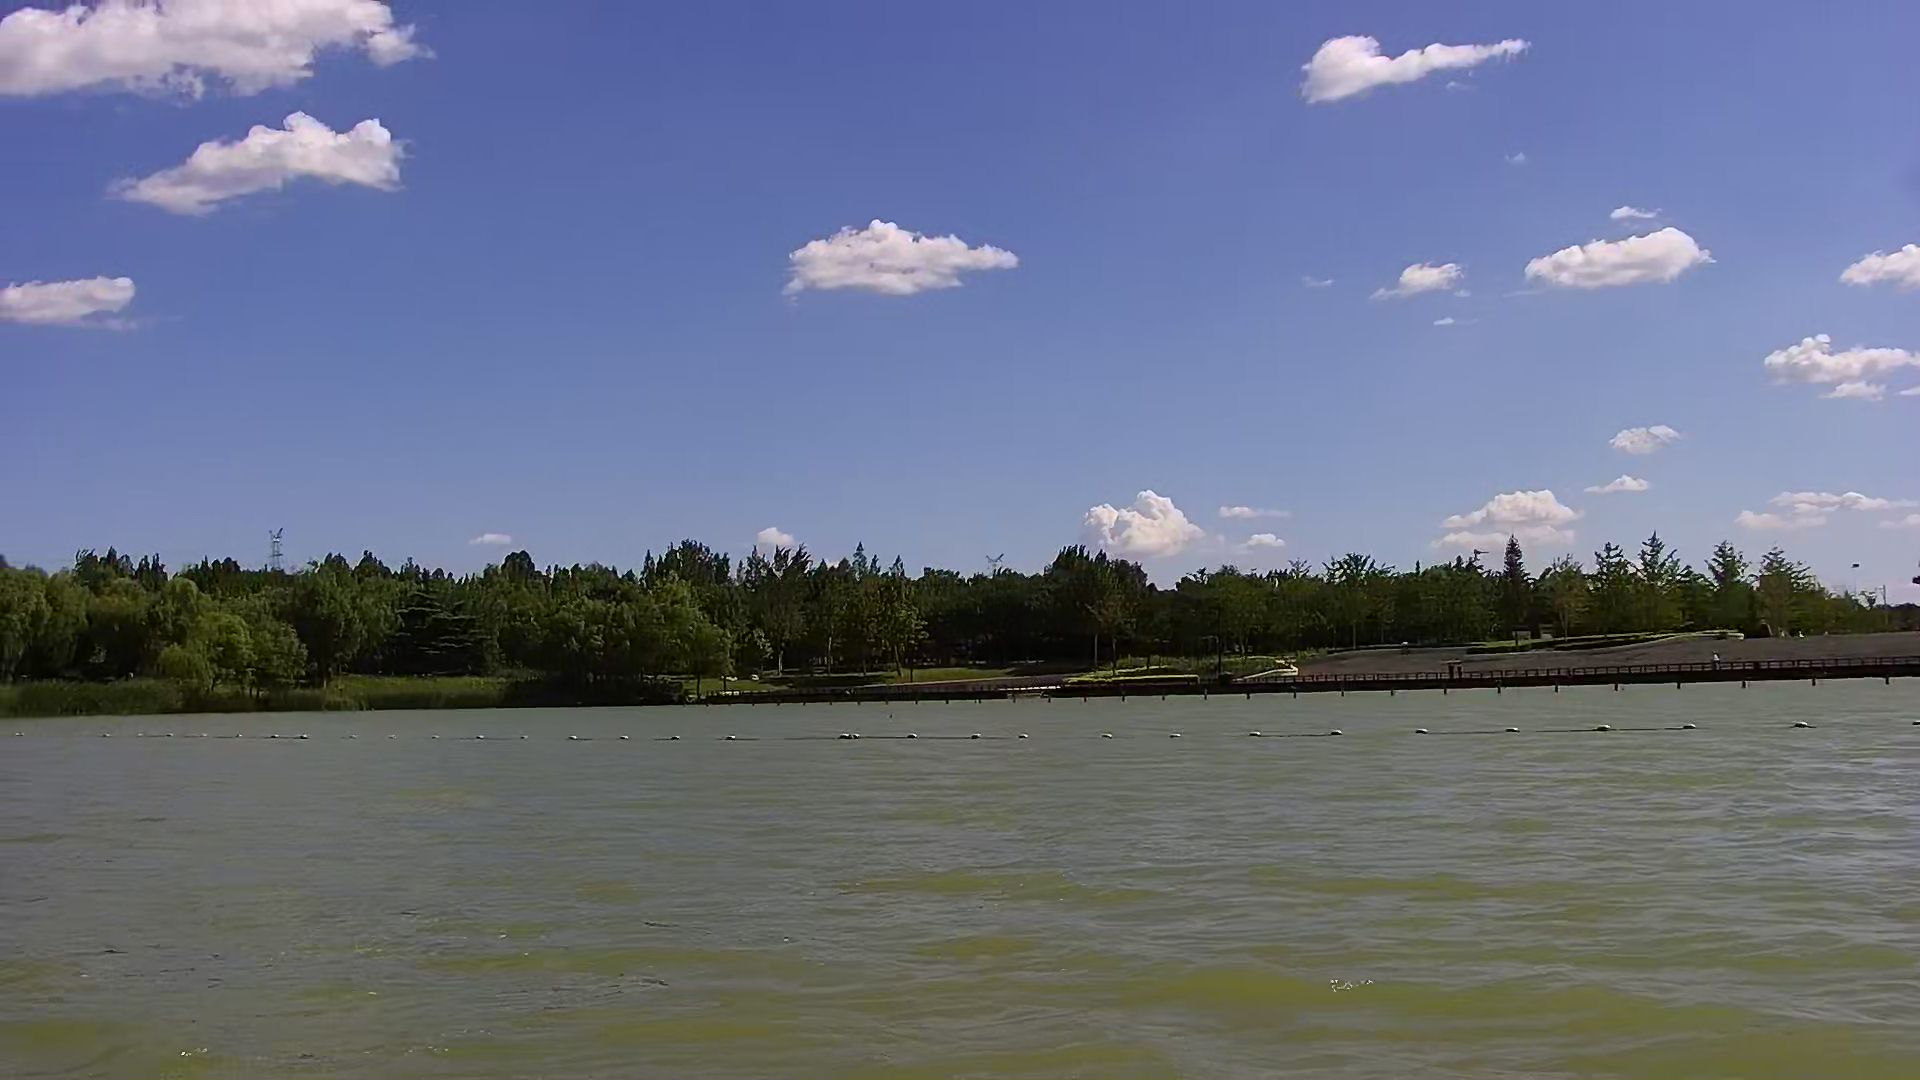ball: (1491, 719, 1527, 738), (1590, 715, 1615, 741), (1792, 716, 1821, 735), (1680, 717, 1697, 735)
harbor: (1251, 630, 1920, 696)
